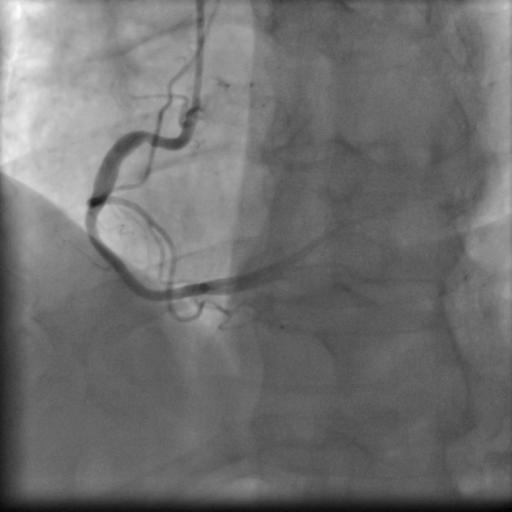Stenosis: (85, 207, 100, 234)
